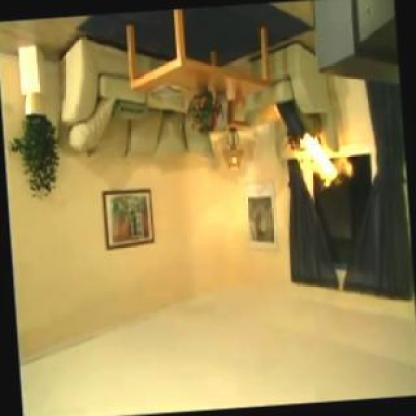Fire: (298, 121, 336, 196)
